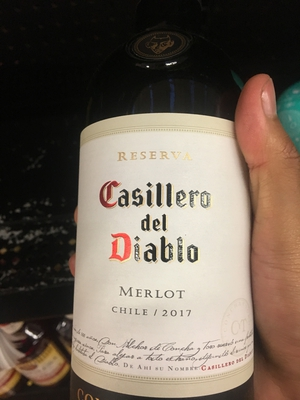casillero del diablo merlot: (61, 25, 253, 400)
